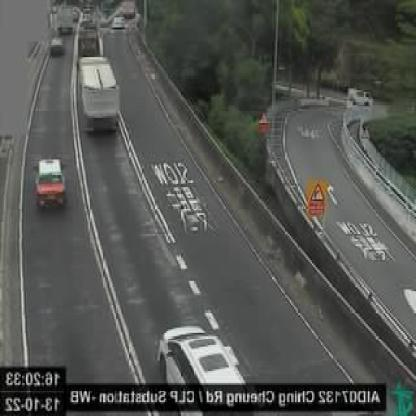Car: (156, 321, 260, 411), (34, 159, 67, 210), (349, 87, 373, 106), (49, 37, 66, 57), (110, 13, 126, 29)
Truck: (73, 29, 122, 134)
